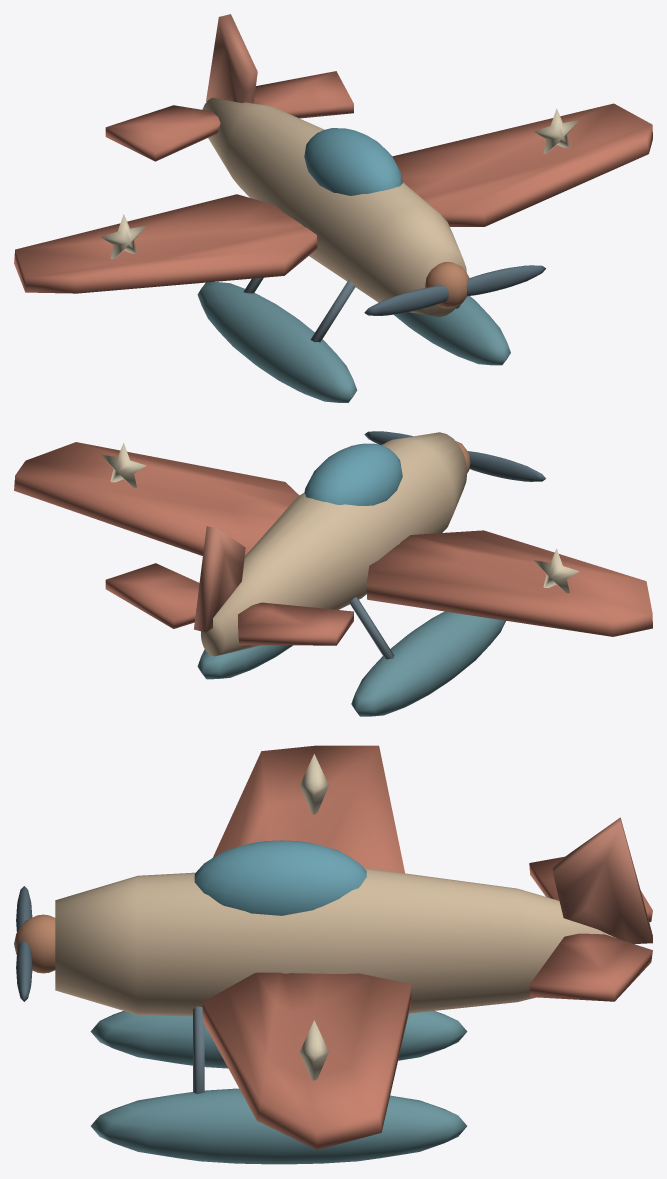
3 views of the same model, one above another, from view 1: azimuth 30°, elevation 25°; view 2: azimuth 150°, elevation 25°; view 3: azimuth 270°, elevation 25° (orthographic). The views are drawn at different scales.
Visible parts, largest first — view 1: food_plane_painted_mesh; view 2: food_plane_painted_mesh; view 3: food_plane_painted_mesh.
Part boxes in pixels (<box>): food_plane_painted_mesh: <box>14,14,652,402</box>; food_plane_painted_mesh: <box>14,431,652,716</box>; food_plane_painted_mesh: <box>14,745,652,1164</box>.
Bounding box in the file's own units: 3.1 × 1.11 × 2.17.
